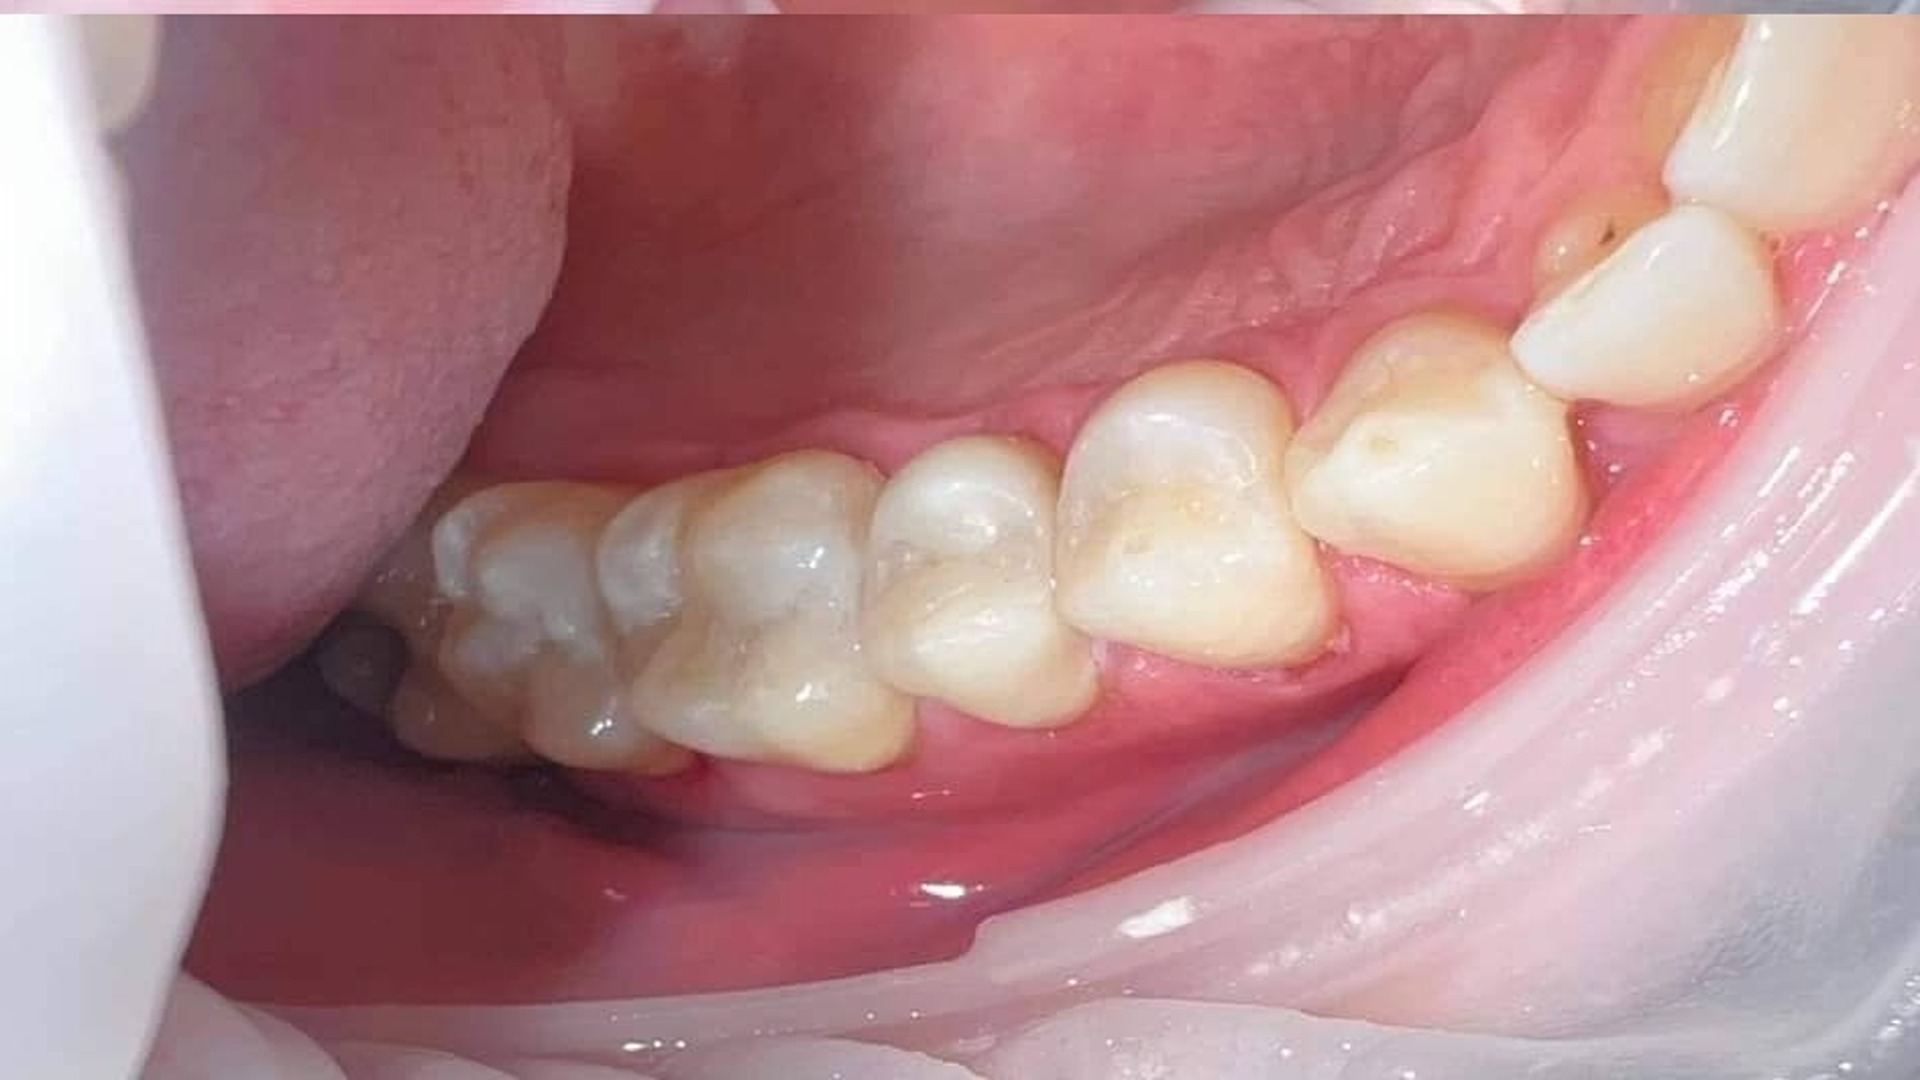tooth: (597, 448, 916, 773), (1054, 359, 1342, 671), (1284, 311, 1592, 591), (431, 481, 698, 775), (860, 435, 1101, 731), (1509, 204, 1780, 409), (1662, 15, 1917, 231)
